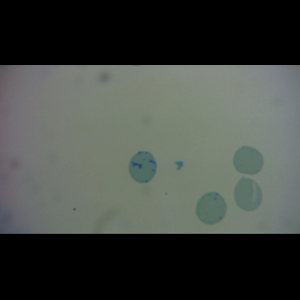aggregate reticulocyte: (127, 150, 159, 185)
erythrocyte: (232, 176, 264, 212)
punctate reticulocyte: (195, 190, 228, 226), (231, 144, 266, 176)
